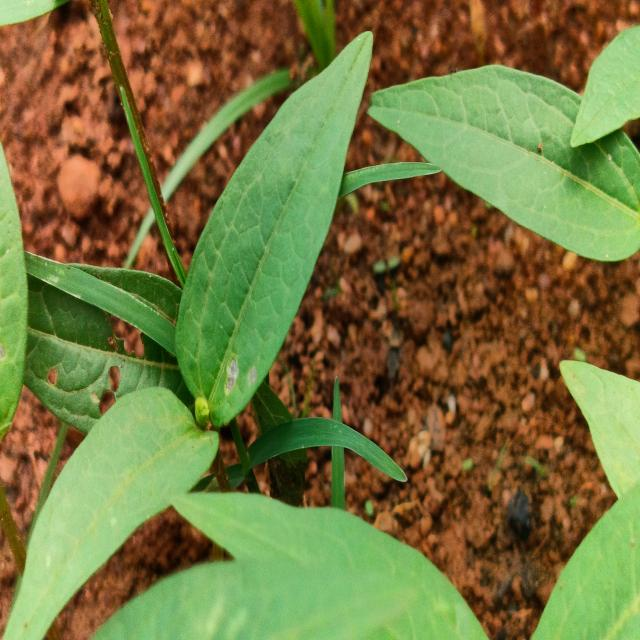Black gram_healthy: (178, 24, 376, 434), (368, 63, 640, 259)
